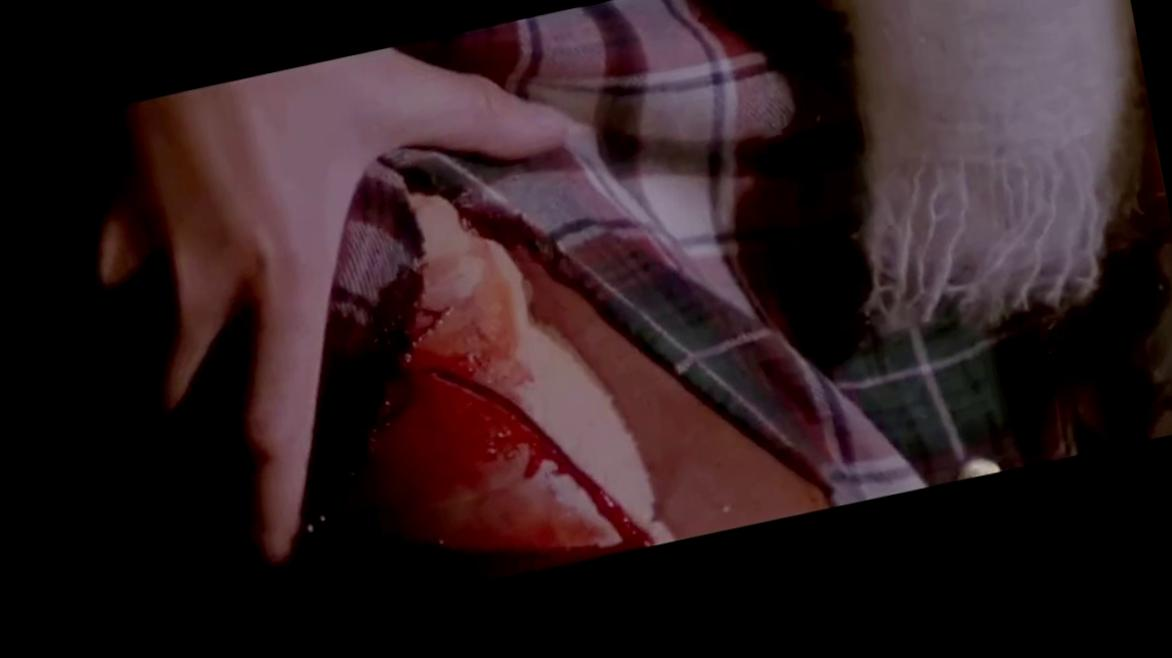Fire: (301, 258, 653, 556)
